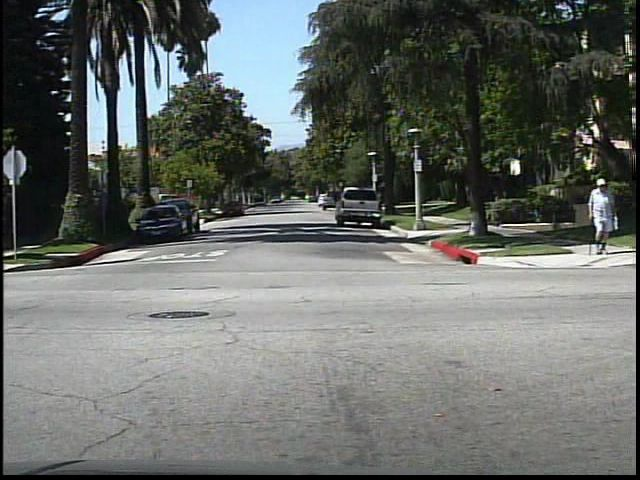person: (586, 173, 622, 258)
